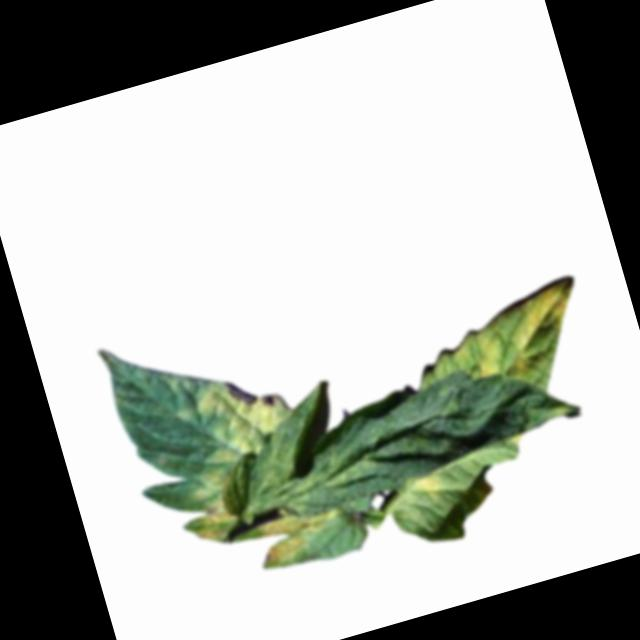Leaf_Mold: (440, 274, 596, 394), (233, 412, 383, 522), (184, 364, 303, 472), (247, 497, 350, 574), (176, 467, 248, 551), (404, 469, 445, 511)
